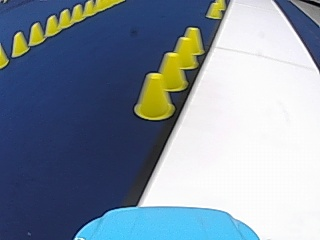cone: (133, 72, 173, 120), (156, 51, 187, 91), (172, 35, 196, 69), (182, 26, 204, 55), (11, 30, 29, 56), (28, 22, 44, 45), (44, 14, 58, 35), (205, 1, 221, 19), (57, 8, 71, 28), (69, 4, 83, 23), (0, 43, 10, 68), (82, 0, 94, 16)
